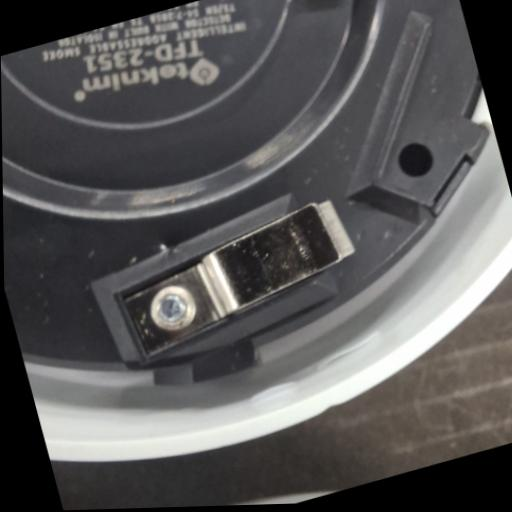yayli: (107, 190, 373, 368)
